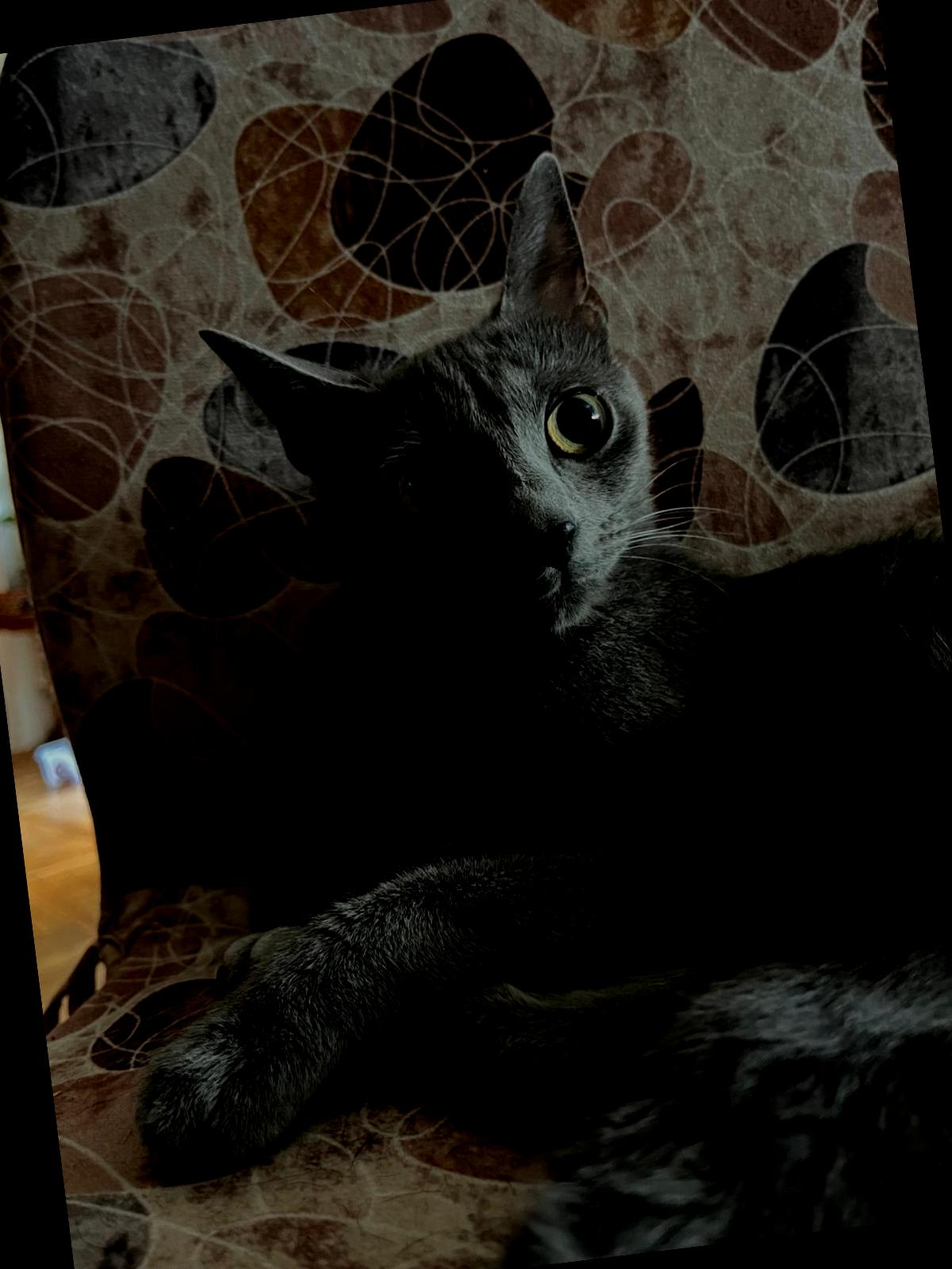macka: (22, 111, 952, 1269)
